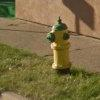Hydrant: (39, 13, 73, 76)
